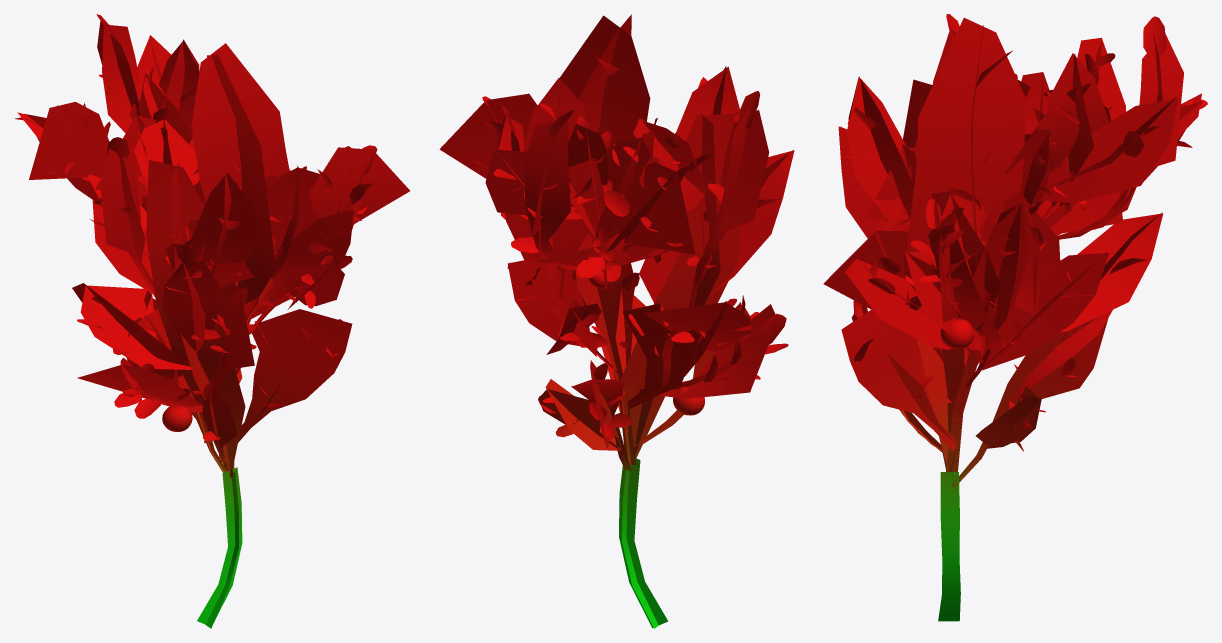
The model's file is Bilberry_LOD0_Var4_vldufeiha.fbx.
3 views of the same model, side by side, from view 1: azimuth 30°, elevation 25°; view 2: azimuth 150°, elevation 25°; view 3: azimuth 270°, elevation 25° (orthographic). The views are drawn at different scales.
Visible parts, largest first — view 1: _26ok_Var4_LOD0; view 2: _26ok_Var4_LOD0; view 3: _26ok_Var4_LOD0.
Boxes of the visible parts, x1=… form: _26ok_Var4_LOD0: x1=15, y1=14, x2=409, y2=628; _26ok_Var4_LOD0: x1=439, y1=14, x2=794, y2=628; _26ok_Var4_LOD0: x1=823, y1=14, x2=1207, y2=621.
Bounding box in the file's own units: 10.85 × 18.92 × 10.65.
